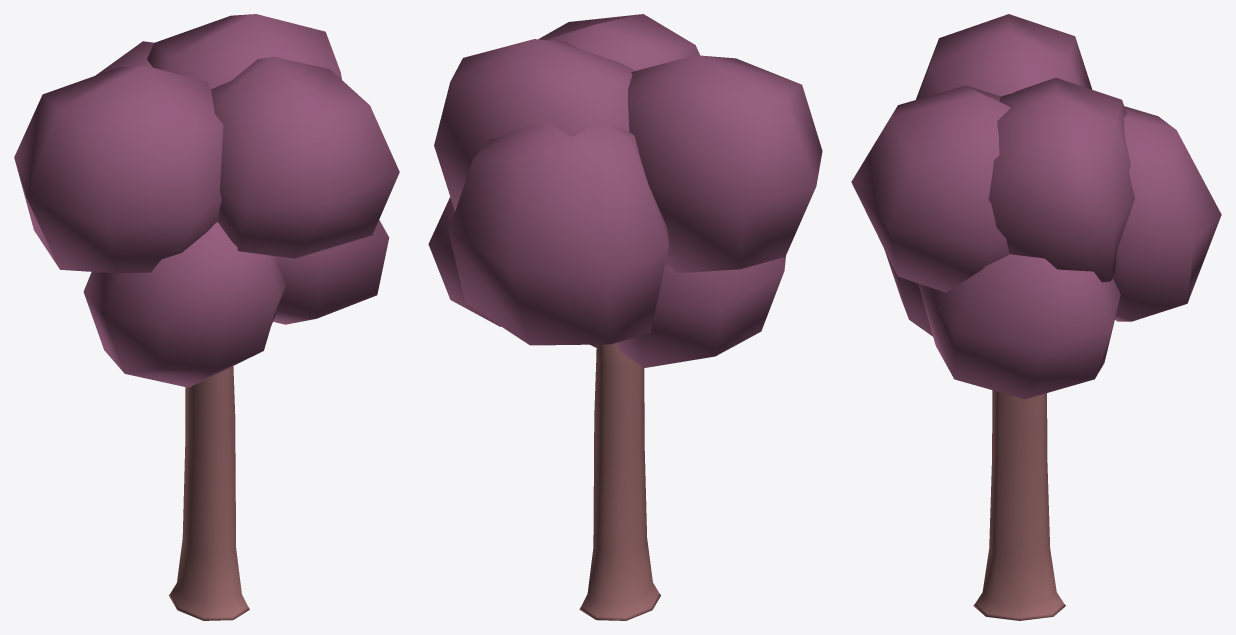
File: tree1.glb
The picture shows the model from 3 angles, left to right: view 1: azimuth 30°, elevation 25°; view 2: azimuth 150°, elevation 25°; view 3: azimuth 270°, elevation 25°; orthographic projection. The views are drawn at different scales.
Parts seen in each view (by area): view 1: Tree1; view 2: Tree1; view 3: Tree1.
Boxes of the visible parts, x1=… form: Tree1: x1=14, y1=14, x2=399, y2=620; Tree1: x1=428, y1=14, x2=822, y2=620; Tree1: x1=851, y1=14, x2=1221, y2=620.
Size of the model in its own units: 3.79 by 5.69 by 3.53.
Materials: 1 (1 with a texture image).
